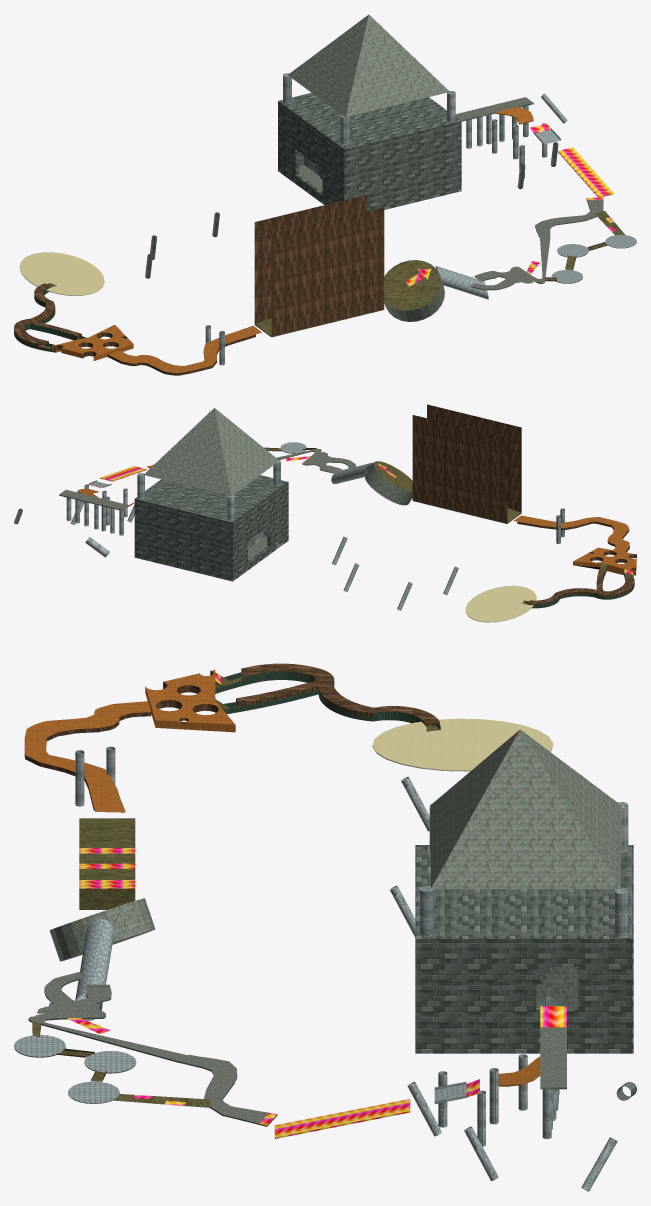
3 views of the same model, one above another, from view 1: azimuth 30°, elevation 25°; view 2: azimuth 150°, elevation 25°; view 3: azimuth 270°, elevation 25° (orthographic). The views are drawn at different scales.
Visible parts, largest first — view 1: Forgiven_templeRC1-SKP--muro, Forgiven_templeRC1-SKP--mattonigrigi, Forgiven_templeRC1-SKP--tetto, Forgiven_templeRC1-SKP--metallo, Forgiven_templeRC1-SKP--ponte, Forgiven_templeRC1-SKP--strada2, Forgiven_templeRC1-SKP--strada, Forgiven_templeRC1-SKP--Materiale1, Forgiven_templeRC1-SKP--Metallostrada, Forgiven_templeRC1-SKP--rampa, Forgiven_templeRC1-SKP--grotta; view 2: Forgiven_templeRC1-SKP--mattonigrigi, Forgiven_templeRC1-SKP--muro, Forgiven_templeRC1-SKP--tetto, Forgiven_templeRC1-SKP--metallo, Forgiven_templeRC1-SKP--ponte, Forgiven_templeRC1-SKP--Materiale1, Forgiven_templeRC1-SKP--strada, Forgiven_templeRC1-SKP--strada2, Forgiven_templeRC1-SKP--Metallostrada, Forgiven_templeRC1-SKP--rampa, Forgiven_templeRC1-SKP--grotta; view 3: Forgiven_templeRC1-SKP--mattonigrigi, Forgiven_templeRC1-SKP--tetto, Forgiven_templeRC1-SKP--metallo, Forgiven_templeRC1-SKP--ponte, Forgiven_templeRC1-SKP--strada, Forgiven_templeRC1-SKP--Materiale1, Forgiven_templeRC1-SKP--strada2, Forgiven_templeRC1-SKP--Metallostrada, Forgiven_templeRC1-SKP--muro, Forgiven_templeRC1-SKP--rampa, Forgiven_templeRC1-SKP--grotta.
Boxes of the visible parts, x1,y1,x2,y2 form: Forgiven_templeRC1-SKP--muro: (14, 195, 607, 375); Forgiven_templeRC1-SKP--mattonigrigi: (278, 93, 636, 290); Forgiven_templeRC1-SKP--tetto: (288, 14, 449, 321); Forgiven_templeRC1-SKP--metallo: (145, 73, 567, 365); Forgiven_templeRC1-SKP--ponte: (52, 107, 533, 372); Forgiven_templeRC1-SKP--strada2: (40, 211, 624, 348); Forgiven_templeRC1-SKP--strada: (299, 97, 603, 289); Forgiven_templeRC1-SKP--Materiale1: (19, 252, 104, 295); Forgiven_templeRC1-SKP--Metallostrada: (436, 129, 636, 299); Forgiven_templeRC1-SKP--rampa: (38, 123, 615, 346); Forgiven_templeRC1-SKP--grotta: (14, 283, 85, 352); Forgiven_templeRC1-SKP--mattonigrigi: (59, 450, 348, 581); Forgiven_templeRC1-SKP--muro: (264, 404, 636, 605); Forgiven_templeRC1-SKP--tetto: (143, 408, 412, 548); Forgiven_templeRC1-SKP--metallo: (14, 460, 564, 610); Forgiven_templeRC1-SKP--ponte: (77, 488, 636, 575); Forgiven_templeRC1-SKP--Materiale1: (465, 585, 536, 622); Forgiven_templeRC1-SKP--strada: (59, 448, 355, 560); Forgiven_templeRC1-SKP--strada2: (265, 448, 633, 604); Forgiven_templeRC1-SKP--Metallostrada: (89, 442, 373, 487); Forgiven_templeRC1-SKP--rampa: (87, 456, 633, 574); Forgiven_templeRC1-SKP--grotta: (524, 569, 634, 608); Forgiven_templeRC1-SKP--mattonigrigi: (14, 845, 633, 1126); Forgiven_templeRC1-SKP--tetto: (49, 729, 620, 1008); Forgiven_templeRC1-SKP--metallo: (75, 746, 636, 1191); Forgiven_templeRC1-SKP--ponte: (24, 670, 540, 1086); Forgiven_templeRC1-SKP--strada: (28, 972, 566, 1123); Forgiven_templeRC1-SKP--Materiale1: (372, 718, 553, 771); Forgiven_templeRC1-SKP--strada2: (32, 676, 439, 1107); Forgiven_templeRC1-SKP--Metallostrada: (14, 919, 466, 1103); Forgiven_templeRC1-SKP--muro: (24, 663, 439, 1081); Forgiven_templeRC1-SKP--rampa: (67, 672, 566, 1138); Forgiven_templeRC1-SKP--grotta: (215, 671, 440, 729).
Size of what is drawn, in the model's own units: 189902 by 53901 by 97500.
Materials: 15 (15 with a texture image).
